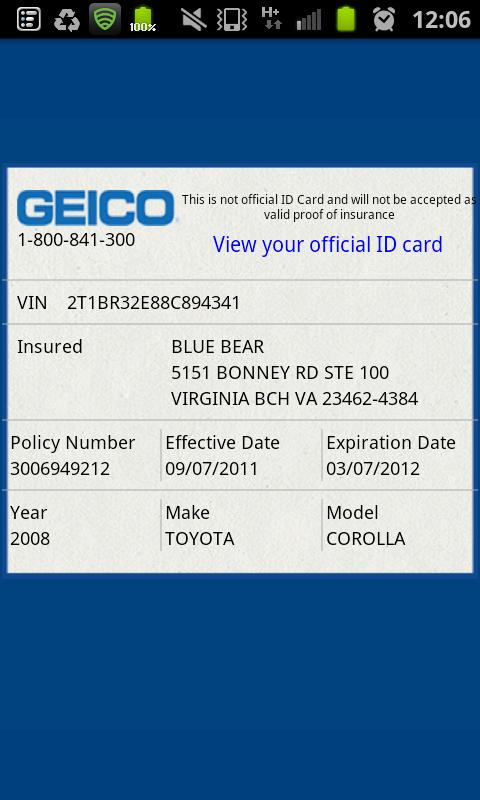geico: (17, 185, 180, 230)
